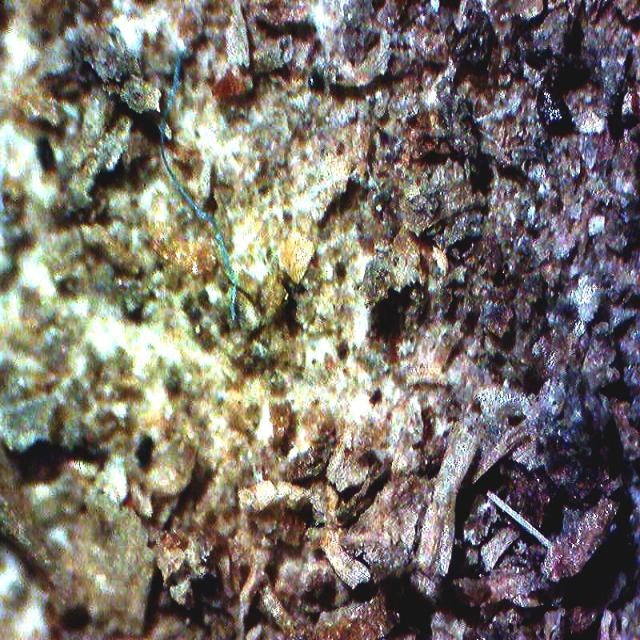microplastic: (138, 53, 246, 327)
